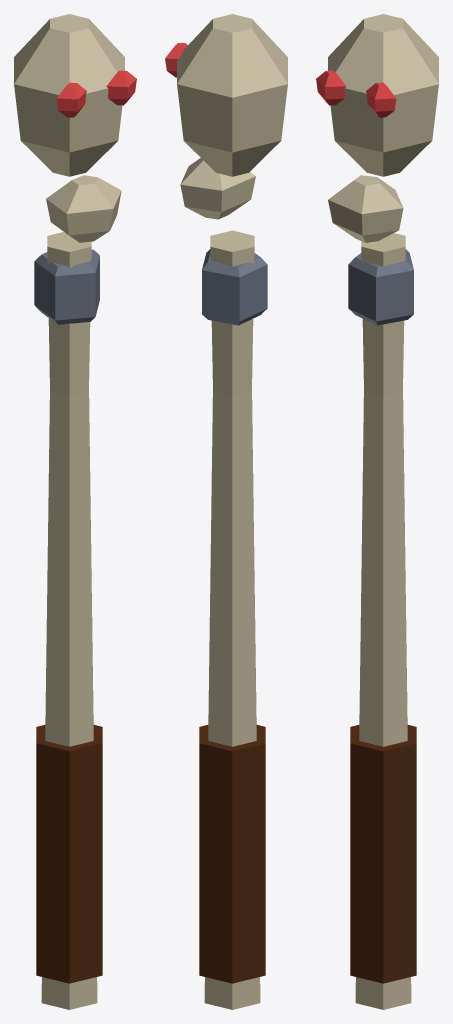
The model's file is wpn_wand_4.glb.
3 views of the same model, side by side, from view 1: azimuth 30°, elevation 25°; view 2: azimuth 210°, elevation 25°; view 3: azimuth 330°, elevation 25° (orthographic).
Parts seen in each view (by area): view 1: wpn_wand_4; view 2: wpn_wand_4; view 3: wpn_wand_4.
Part boxes in pixels (left/top/right/bottom): wpn_wand_4: left=14, top=14, right=136, bottom=1009; wpn_wand_4: left=165, top=14, right=287, bottom=1009; wpn_wand_4: left=316, top=14, right=438, bottom=1009.
Bounding box in the file's own units: 0.08 × 0.67 × 0.0766.
